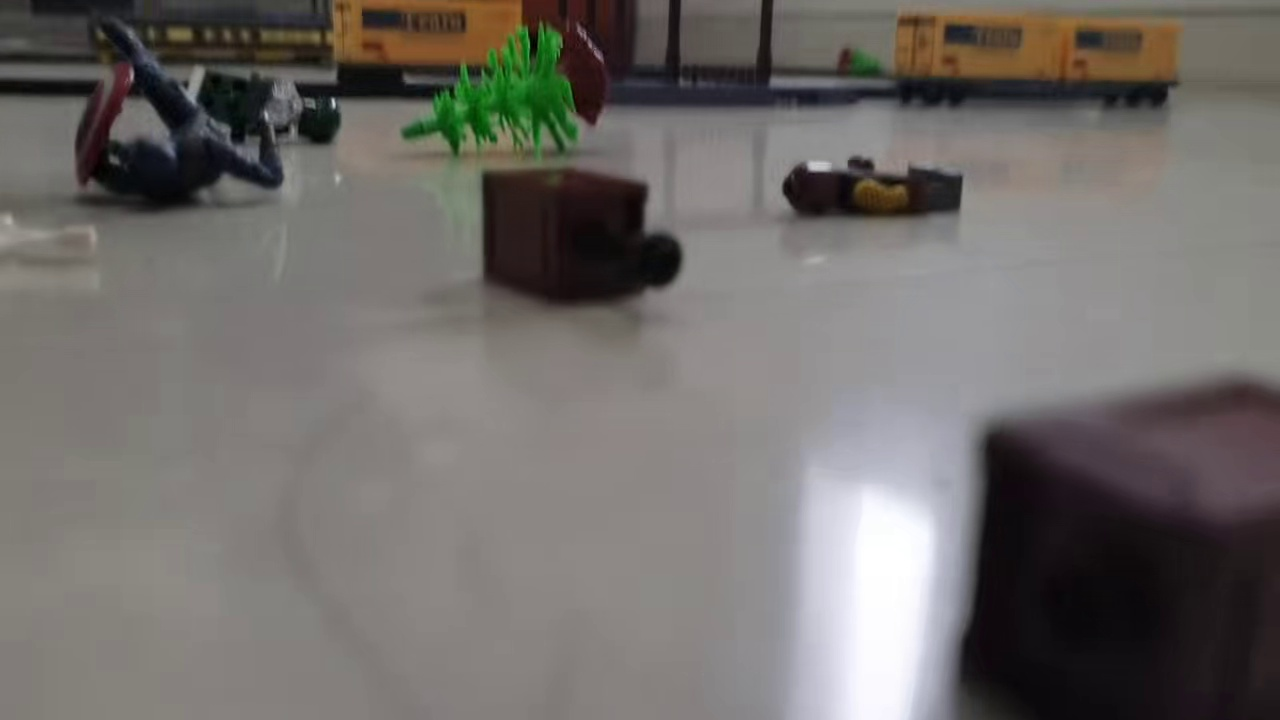box: (946, 371, 1280, 718), (479, 162, 684, 306)
people: (69, 3, 285, 212), (181, 64, 340, 149), (781, 154, 966, 220)
tree: (400, 20, 609, 157), (835, 47, 888, 79)
